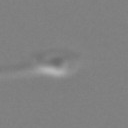normal: (2, 64, 34, 81)
